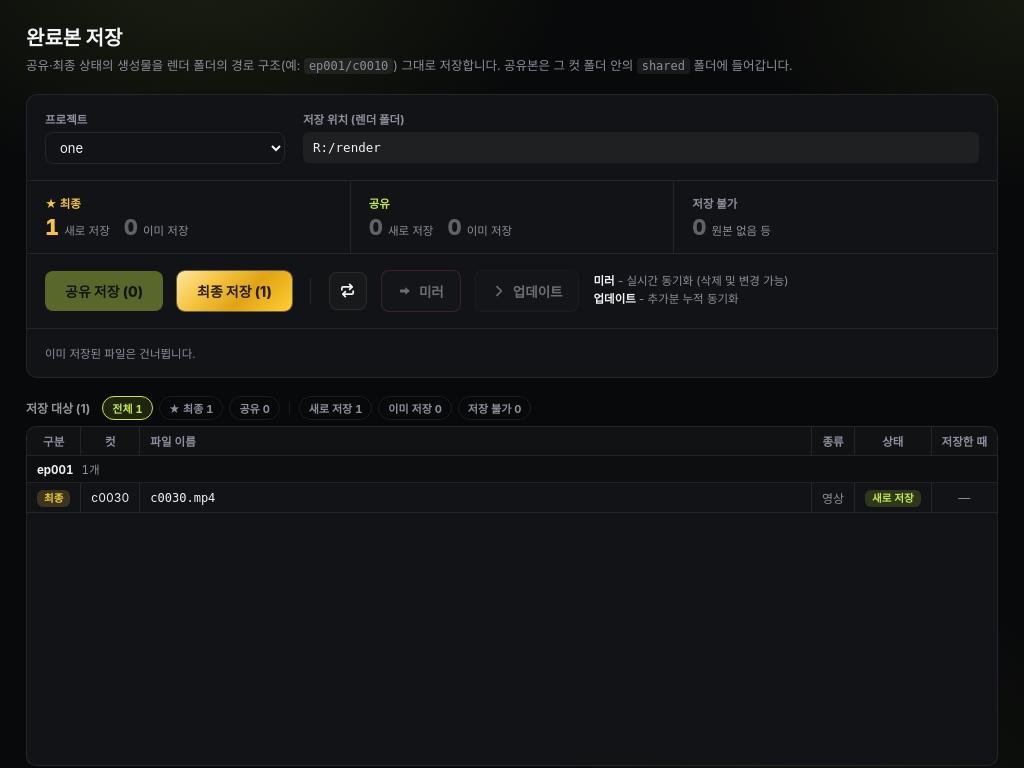
Test: 저장이 도는 동안 프로젝트 선택이 잠기고, 그사이 프로젝트가 바뀌었으면 앞 프로젝트의 결과를 띄우지 않는다
Click the button "최종 저장 (1)": (234, 291) [177, 271, 292, 311]
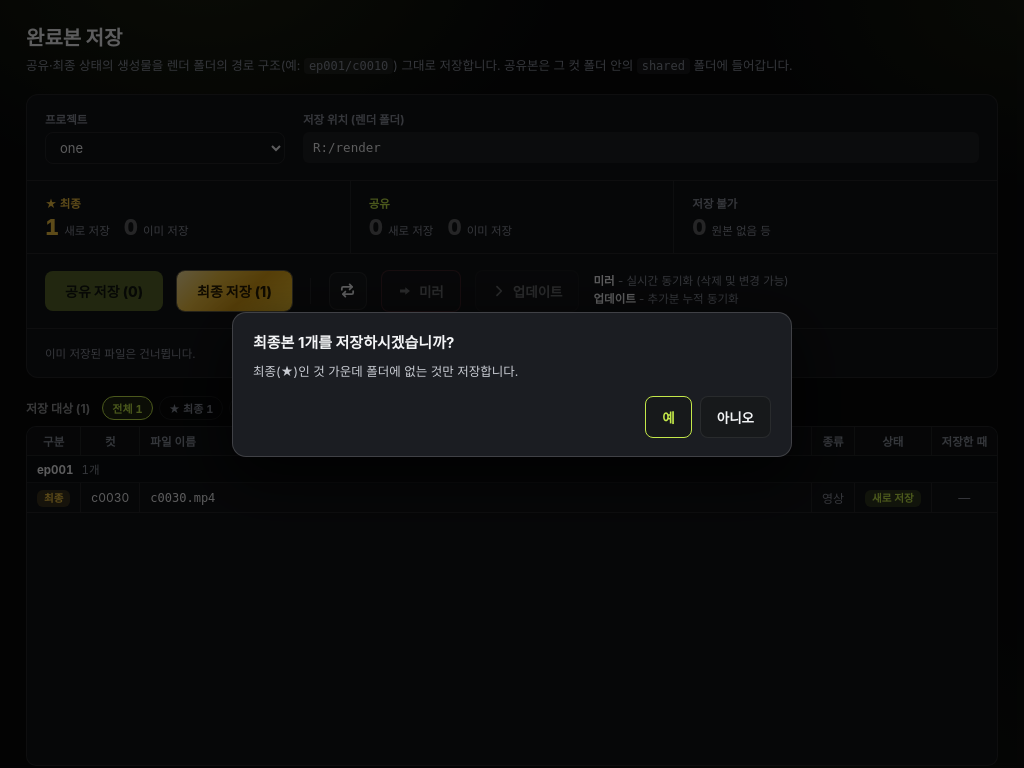
Click the button "예": (668, 416) [645, 396, 692, 438]
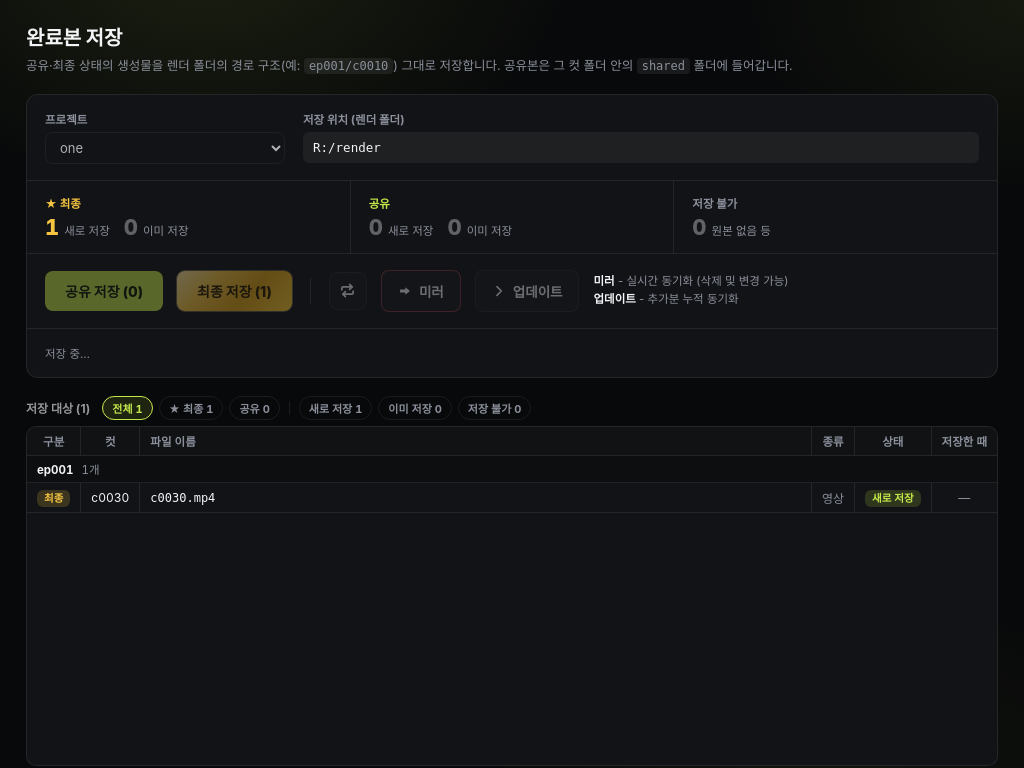
Now the dropdown labelled "프로젝트" is disabled
Select "two" in the dropdown labelled "프로젝트": (165, 148) [45, 132, 285, 164]
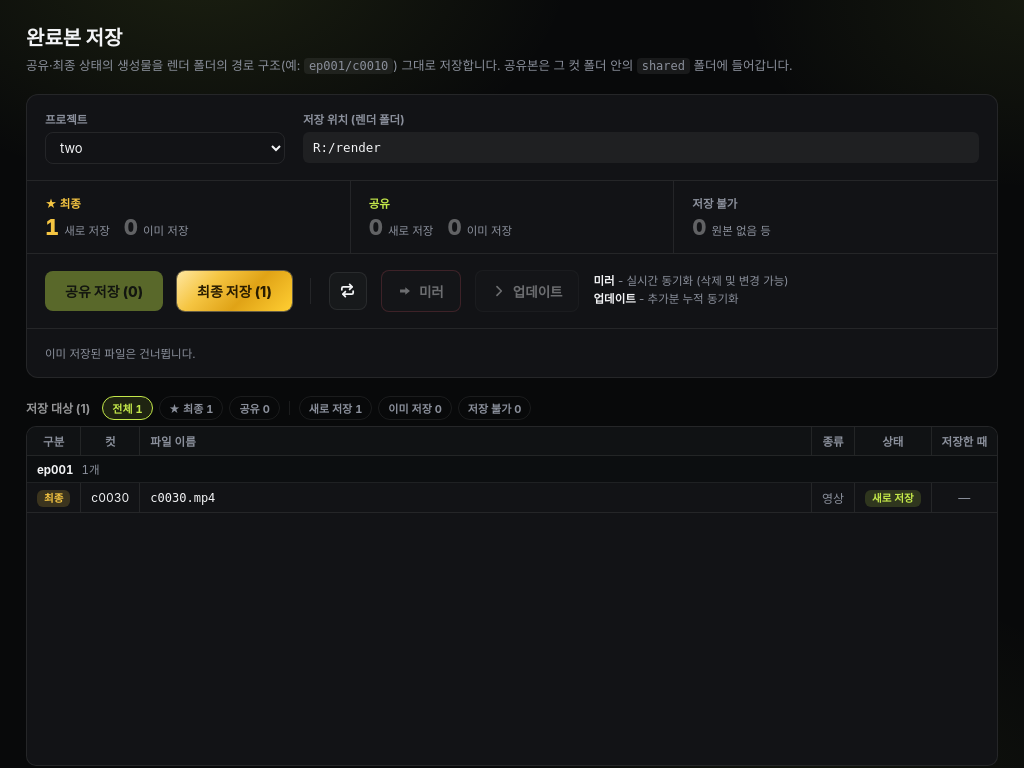
Now the dropdown labelled "프로젝트" is enabled, box [45, 132, 285, 164]
